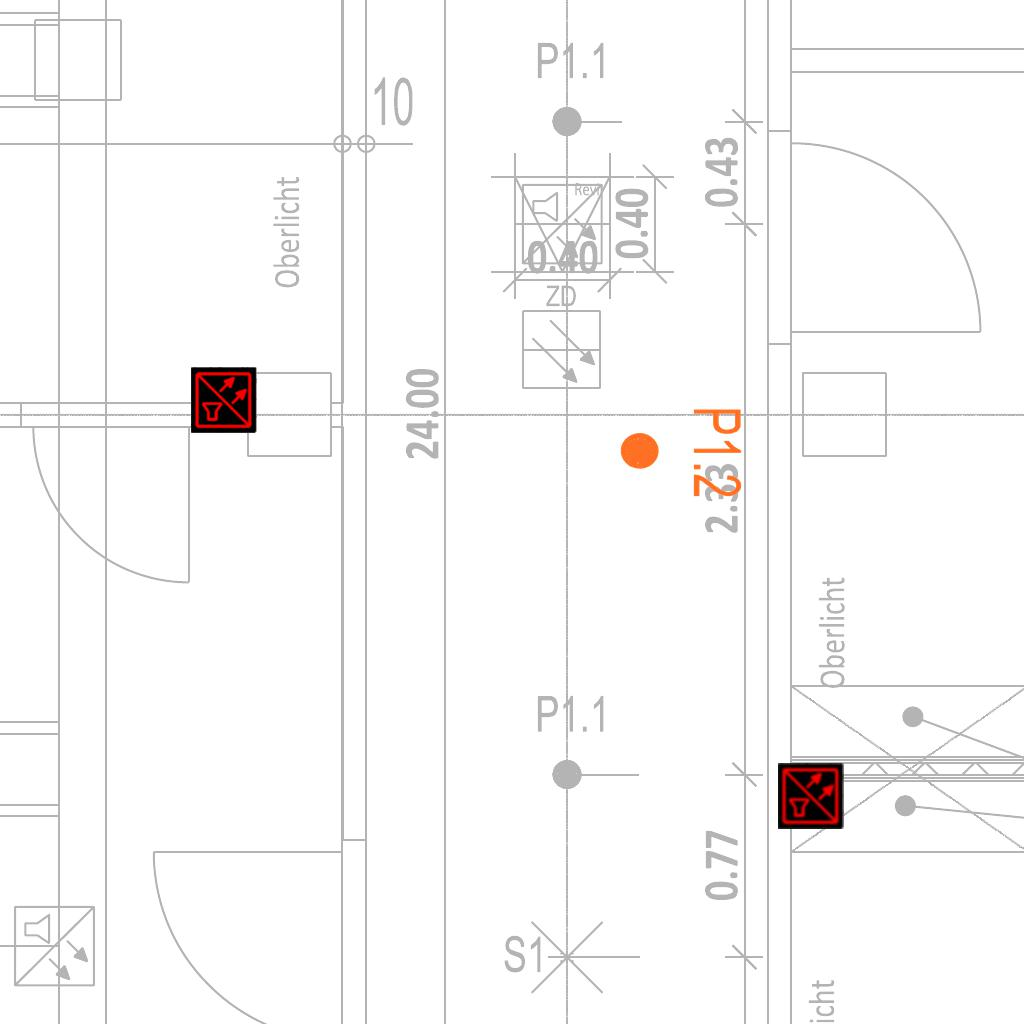Downlight_LED_Einbauleuchten_Flur: (617, 406, 745, 499)
OKW_Multisensormelder_(Kombination_optischer_Rauch-Kahlenmonoxid_Waerme-Melder): (778, 763, 844, 829), (191, 367, 257, 433)
